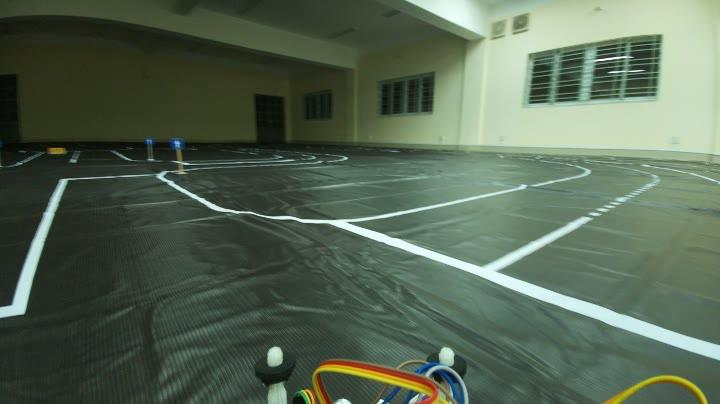onewayroad: (171, 133, 187, 150), (144, 136, 156, 149)
roadblock: (47, 146, 70, 154)
